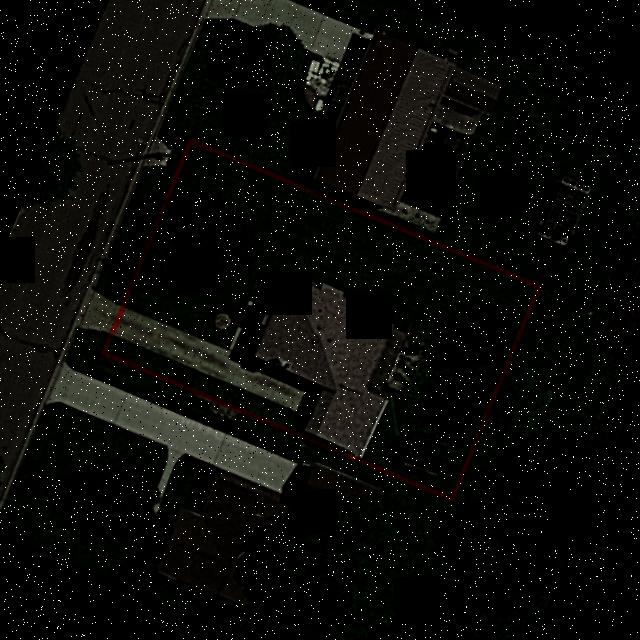Driveway: (114, 307, 303, 411)
Extra Driveway: (76, 290, 119, 332)
Extra Lawn: (78, 351, 310, 460), (94, 129, 185, 302), (67, 330, 105, 371)
House: (250, 269, 417, 455)
Other: (404, 434, 445, 473)
